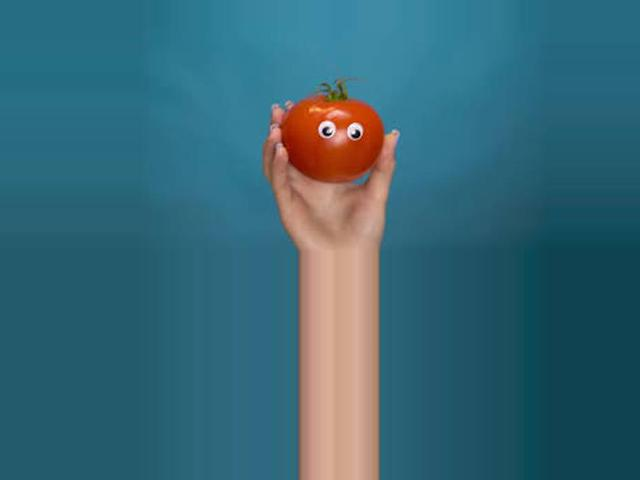tomato: (280, 94, 385, 183)
